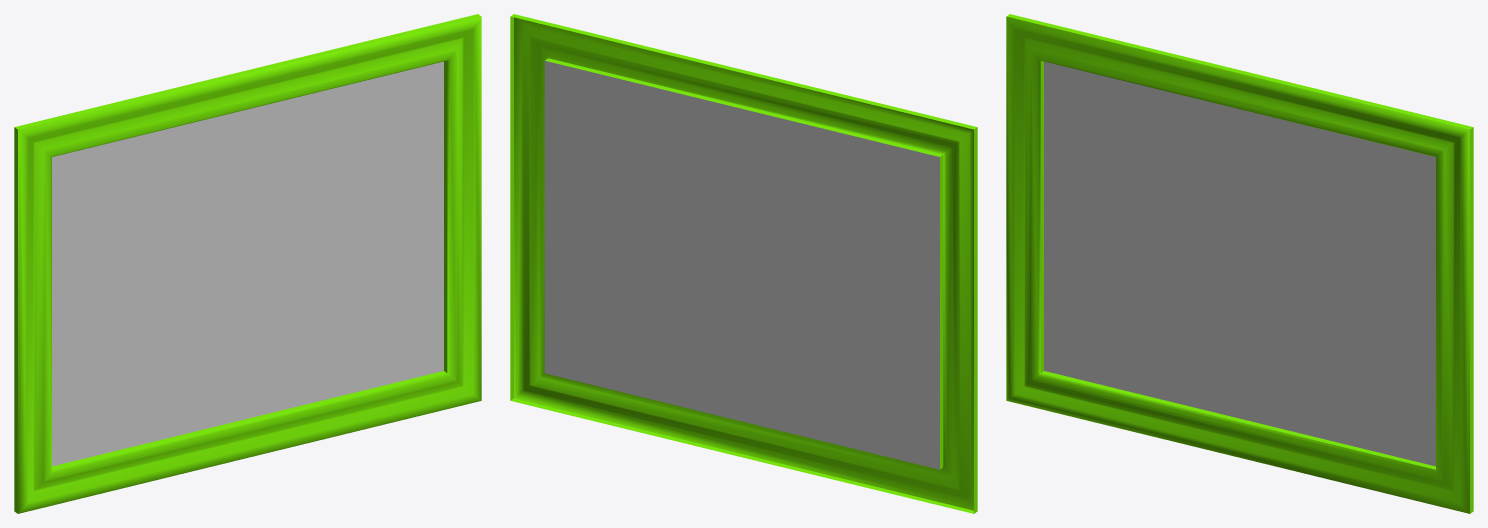
File: painting_16_mesh.fbx
The picture shows the model from 3 angles, left to right: view 1: azimuth 30°, elevation 25°; view 2: azimuth 150°, elevation 25°; view 3: azimuth 330°, elevation 25°; orthographic projection.
Parts seen in each view (by area): view 1: painting; view 2: painting; view 3: painting.
Boxes of the visible parts, <box> form: painting: <box>14,14,481,513</box>; painting: <box>510,14,977,513</box>; painting: <box>1006,14,1473,513</box>.
Size of the model in its own units: 1.17 by 0.9289 by 0.02.
